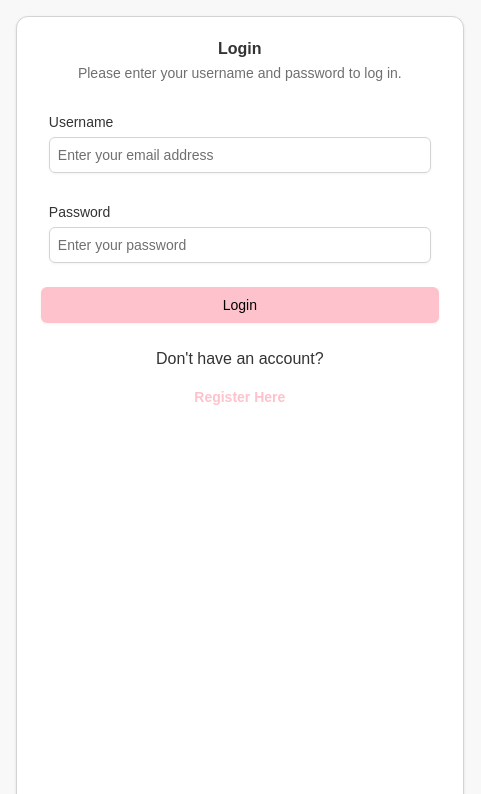
Test: LoginForm › validates form inputs
Step 1. Click the button "Login" → [240, 305], box [41,287,439,323]
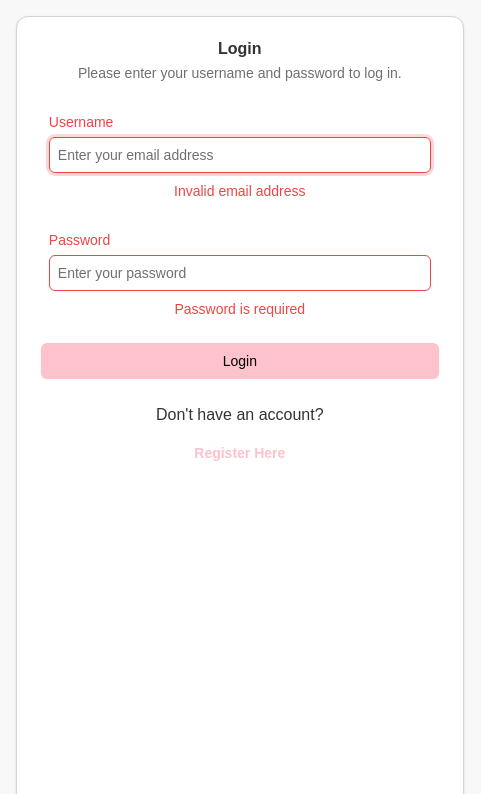
Result: the text "Invalid email address" is shown at [174,183,306,199]
